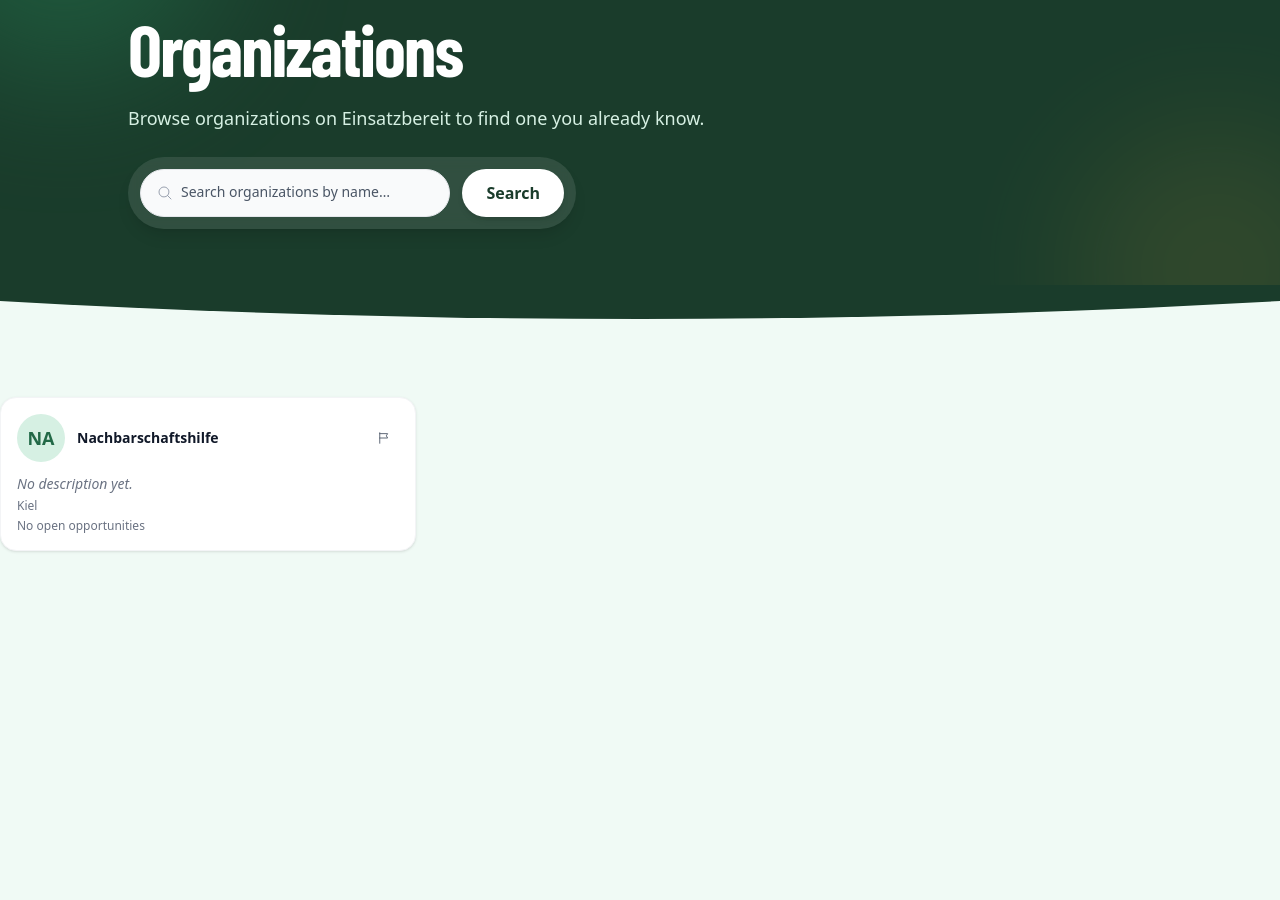
Test case: OrganizationsPage report affordance › opens the modal directly for a signed-in visitor
Click the button named "Report organization": click(385, 438) [371, 424, 399, 452]
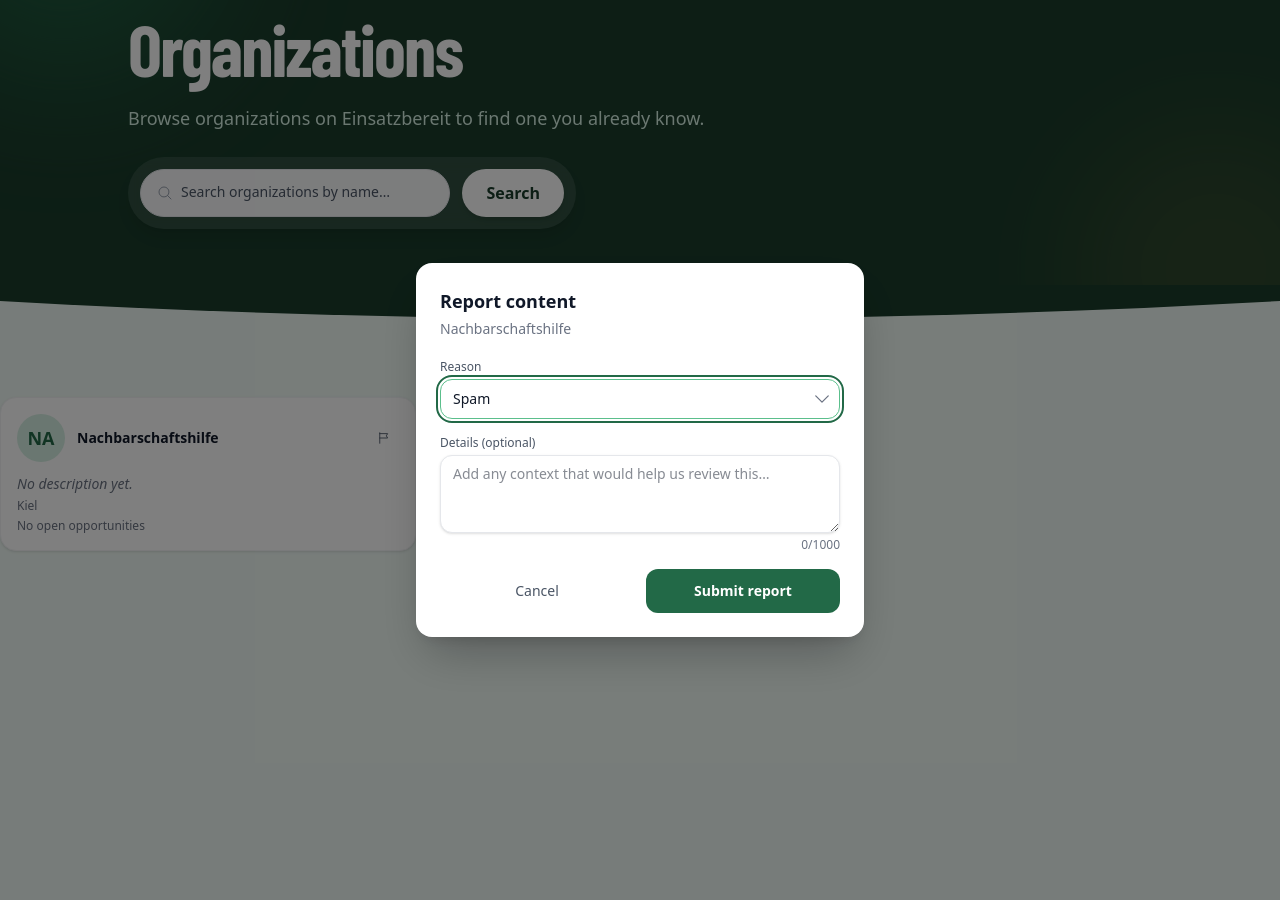
Check: the heading "Report content" is shown, box [440, 289, 576, 313]
